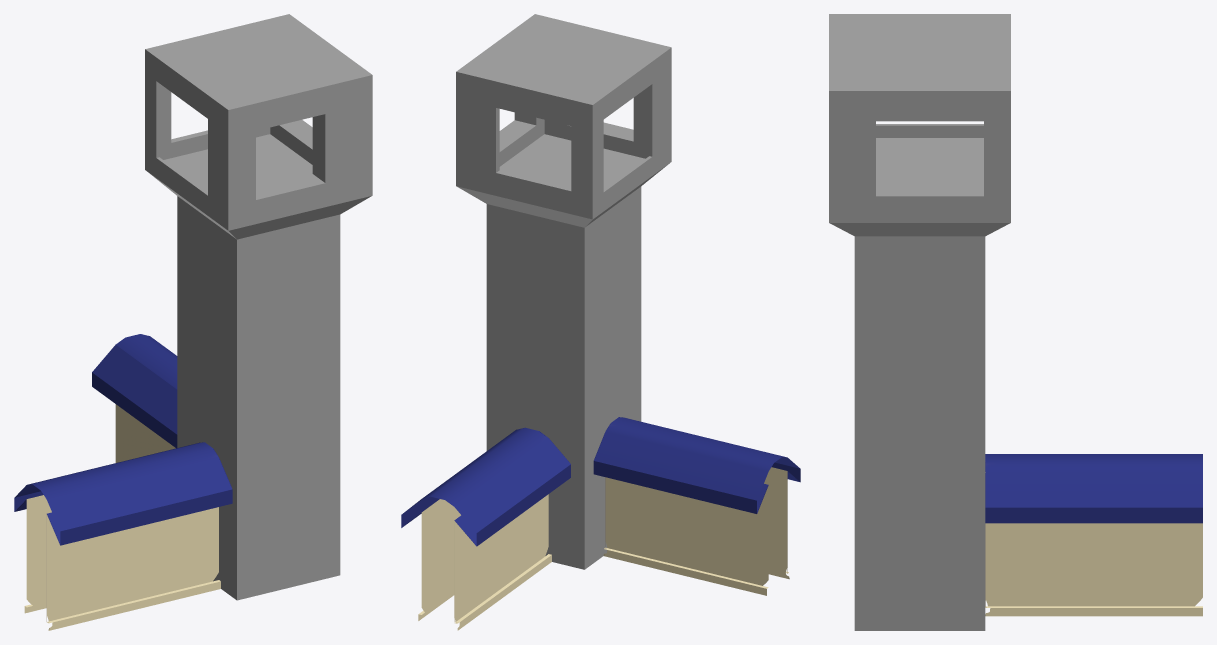
Rendered from wallcorner.fbx.
3 views of the same model, side by side, from view 1: azimuth 30°, elevation 25°; view 2: azimuth 150°, elevation 25°; view 3: azimuth 270°, elevation 25° (orthographic). The views are drawn at different scales.
Parts seen in each view (by area): view 1: pCube7; view 2: pCube7; view 3: pCube7.
Boxes of the visible parts, <box> form: pCube7: <box>14,14,372,630</box>; pCube7: <box>401,14,800,630</box>; pCube7: <box>829,14,1202,630</box>.
Size of the model in its own units: 8.59 by 13.96 by 8.59.
